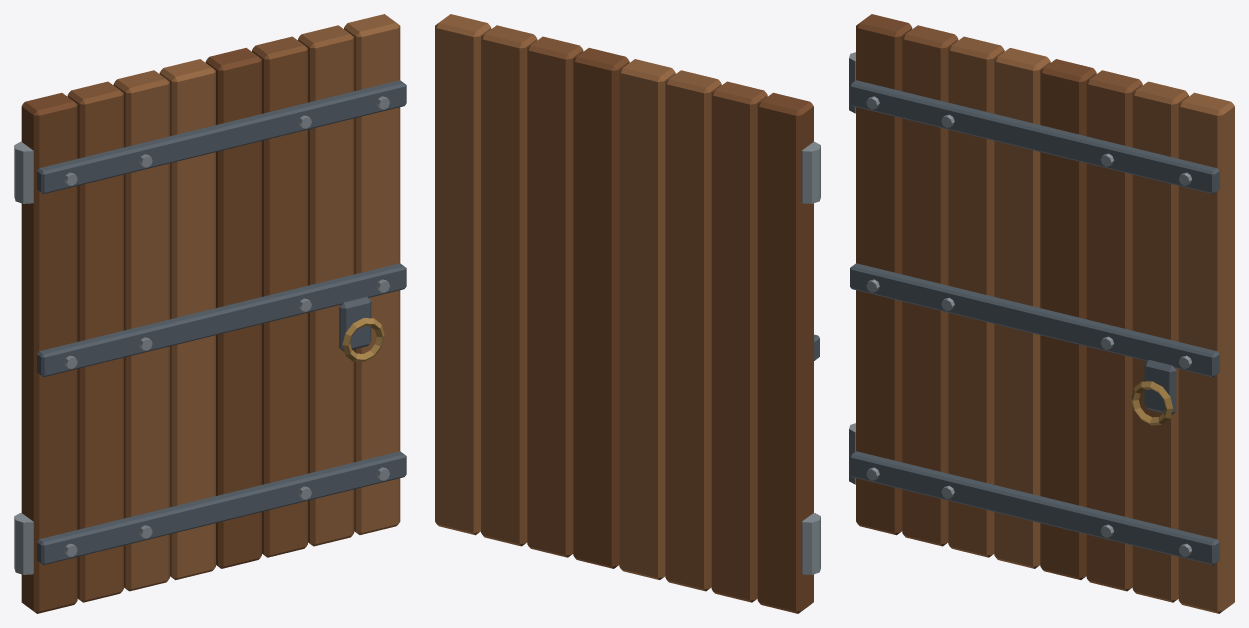
Rendered from MOD_06_Door_Closed.glb.
3 renders of one model, left to right at view 1: azimuth 30°, elevation 25°; view 2: azimuth 150°, elevation 25°; view 3: azimuth 330°, elevation 25°, orthographic.
Visible parts, largest first — view 1: MOD_06_Door_Closed; view 2: MOD_06_Door_Closed; view 3: MOD_06_Door_Closed.
Part boxes in pixels (x1=…): MOD_06_Door_Closed: x1=14, y1=14, x2=406, y2=613; MOD_06_Door_Closed: x1=435, y1=14, x2=820, y2=613; MOD_06_Door_Closed: x1=849, y1=14, x2=1234, y2=613.
Size of the model in its own units: 2.42 by 3.08 by 0.37.
